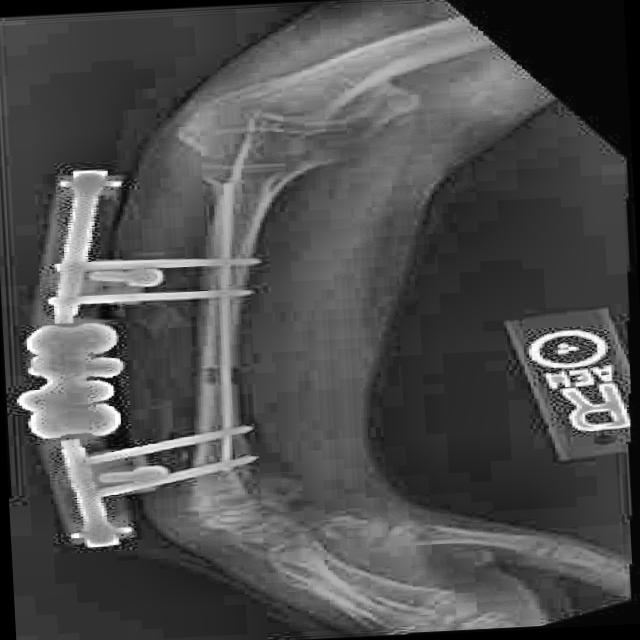forearm fracture: (175, 346, 271, 402)
